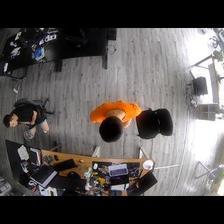normal: (86, 95, 140, 143), (1, 95, 55, 139)
